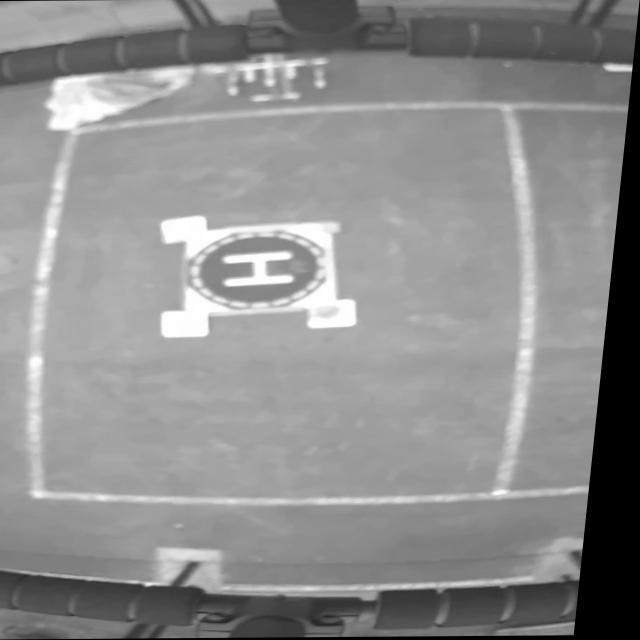Helipad: (228, 251, 300, 287)
